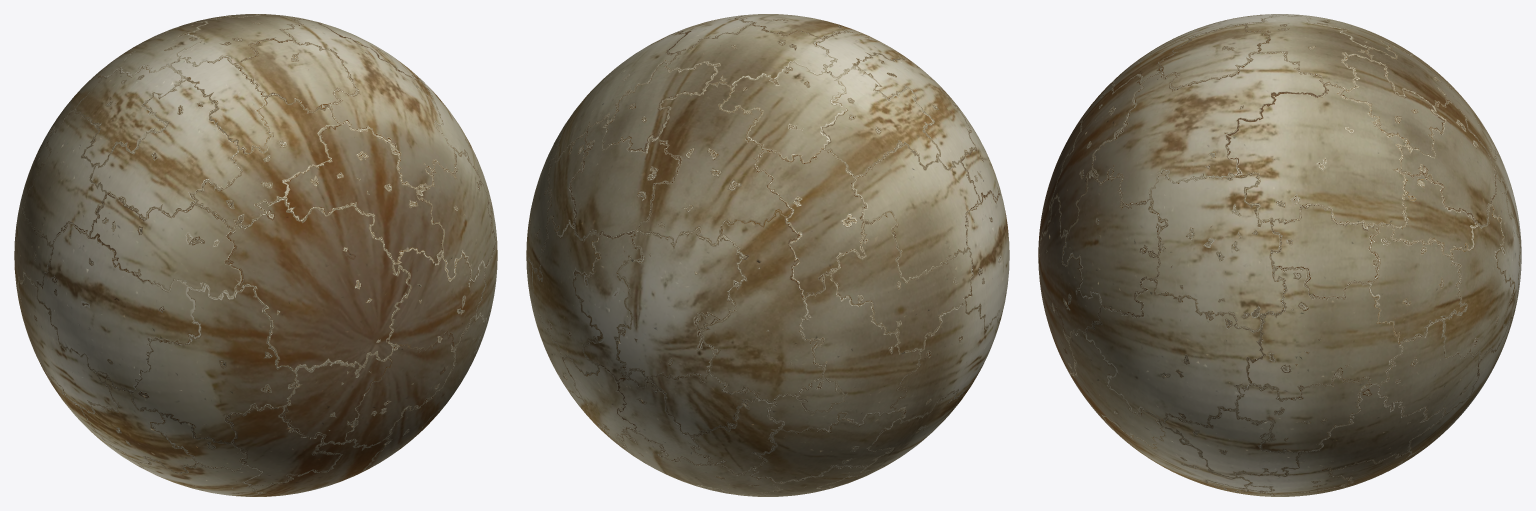
3 renders of one model, left to right at view 1: azimuth 30°, elevation 25°; view 2: azimuth 150°, elevation 25°; view 3: azimuth 270°, elevation 25°, orthographic.
Size of the model in its own units: 2 by 2 by 2.
1 material, 1 textured.
